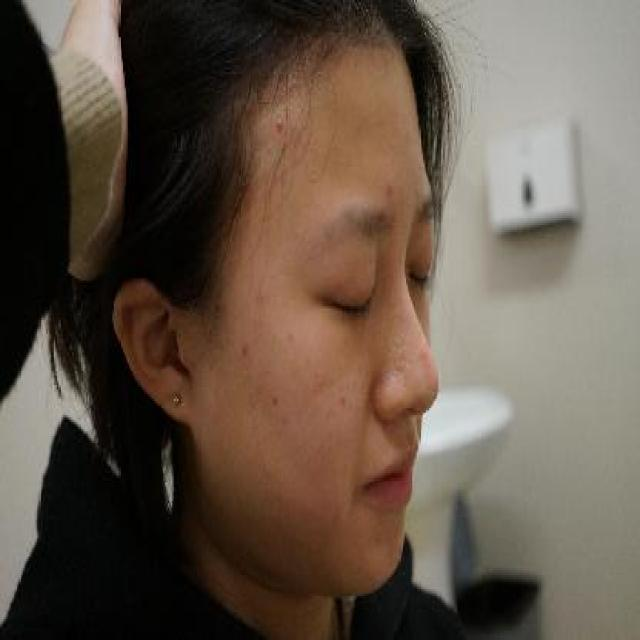dark spot: (269, 385, 283, 415), (240, 332, 251, 366), (383, 172, 395, 200), (337, 390, 349, 415), (284, 327, 298, 348), (280, 410, 291, 429)
papules: (271, 109, 289, 137)
